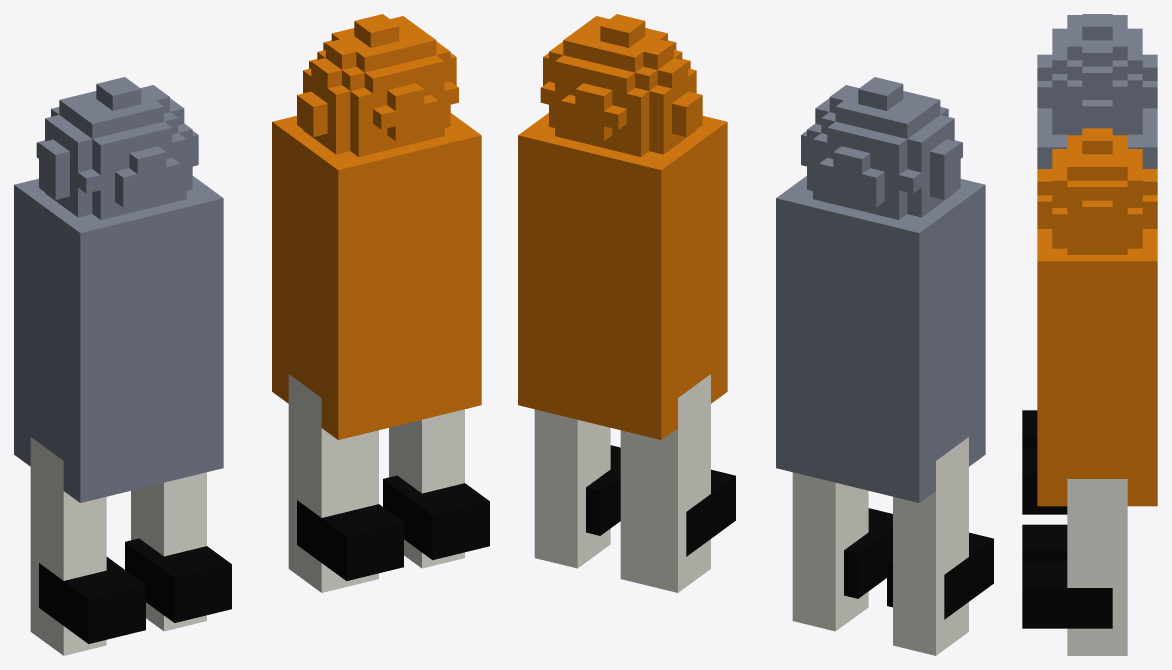
File: garama_and_madundung.glb
3 renders of one model, left to right at view 1: azimuth 30°, elevation 25°; view 2: azimuth 150°, elevation 25°; view 3: azimuth 270°, elevation 25°, orthographic. The views are drawn at different scales.
Visible parts, largest first — view 1: brainrot; view 2: brainrot; view 3: brainrot.
Boxes of the visible parts, x1,y1,x2,y2 form: brainrot: (14,14,489,655); brainrot: (518,14,993,655); brainrot: (1022,14,1157,655).
Size of the model in its own units: 4.28 by 5.5 by 1.38.
Materials: 1 (1 with a texture image).
